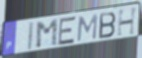B: (98, 11, 117, 40)
E: (57, 15, 78, 47)
H: (117, 6, 139, 38)
I: (26, 21, 36, 53)
M: (35, 18, 59, 51), (76, 13, 99, 43)
